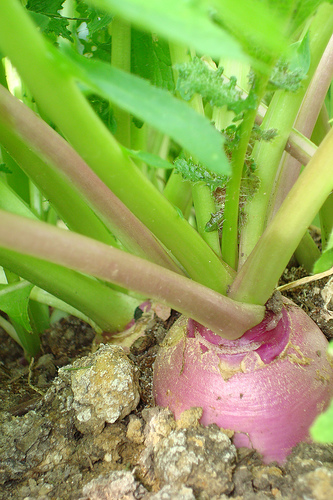turnip: (0, 3, 331, 498)
